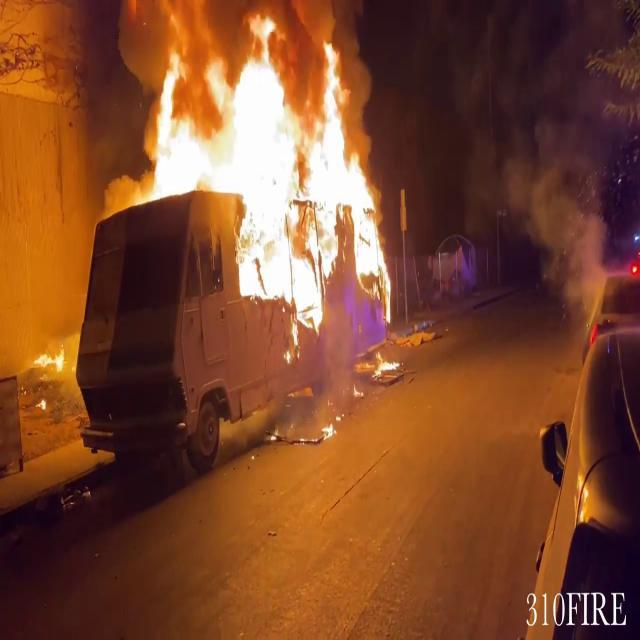Fire: (133, 2, 394, 316)
Smoke: (451, 2, 618, 290)
